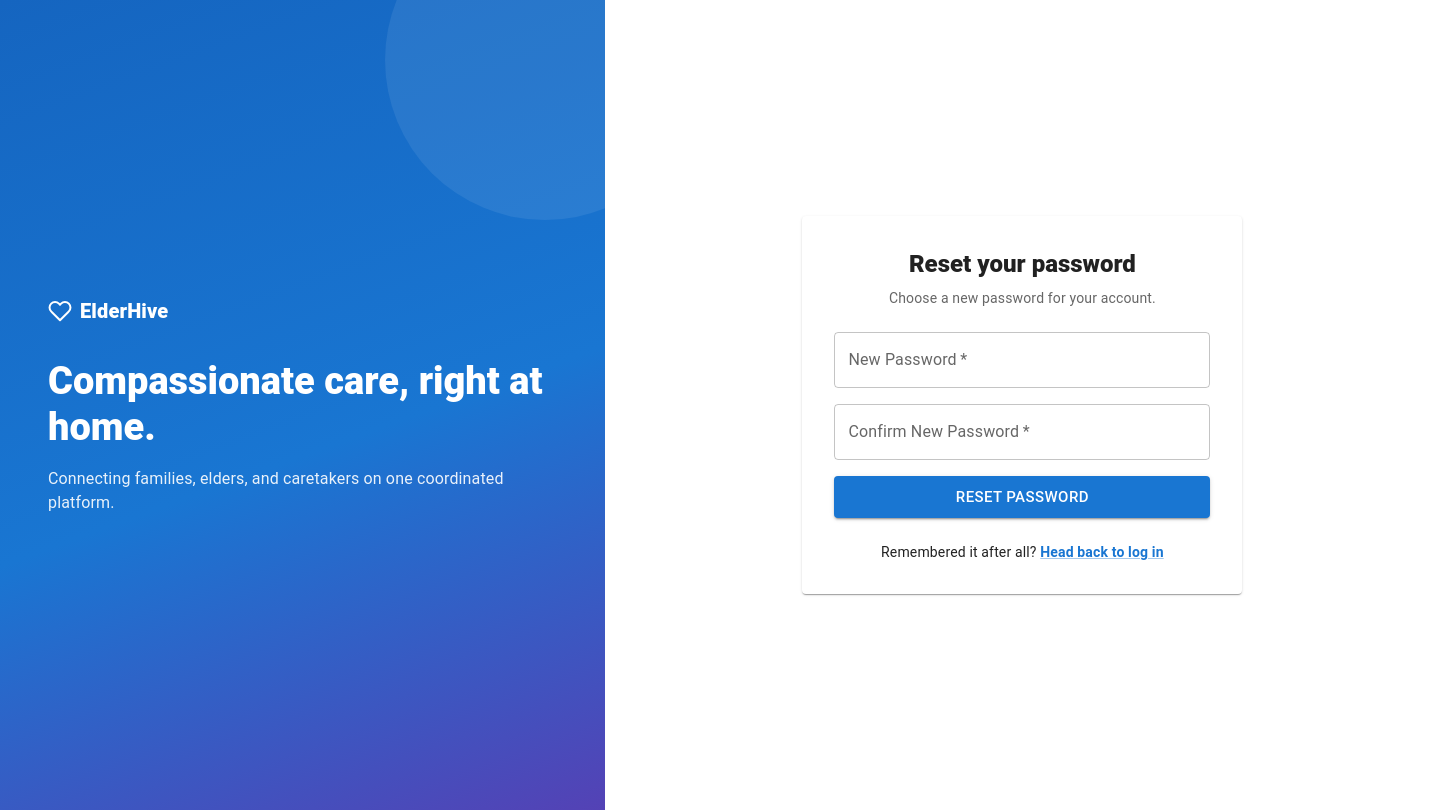
Test: ResetPassword.page › shows the backend's error message when the reset itself fails
Type "strongpass123" into the password field labelled "New Password *". click: [1022, 360]
box: [834,332,1210,388]
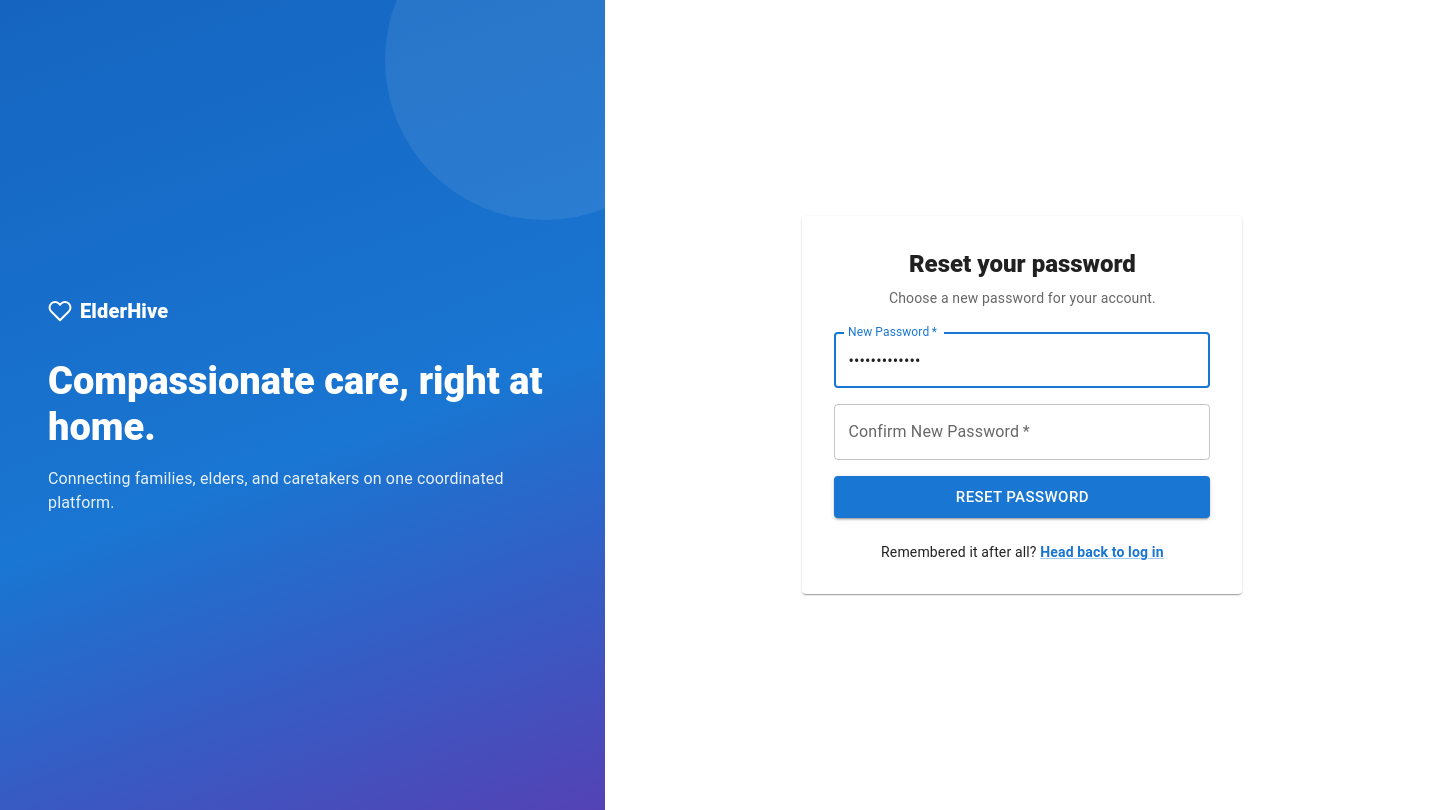
Type "strongpass123" into the password field labelled "Confirm New Password *". click: [1022, 432]
box: [834,404,1210,460]
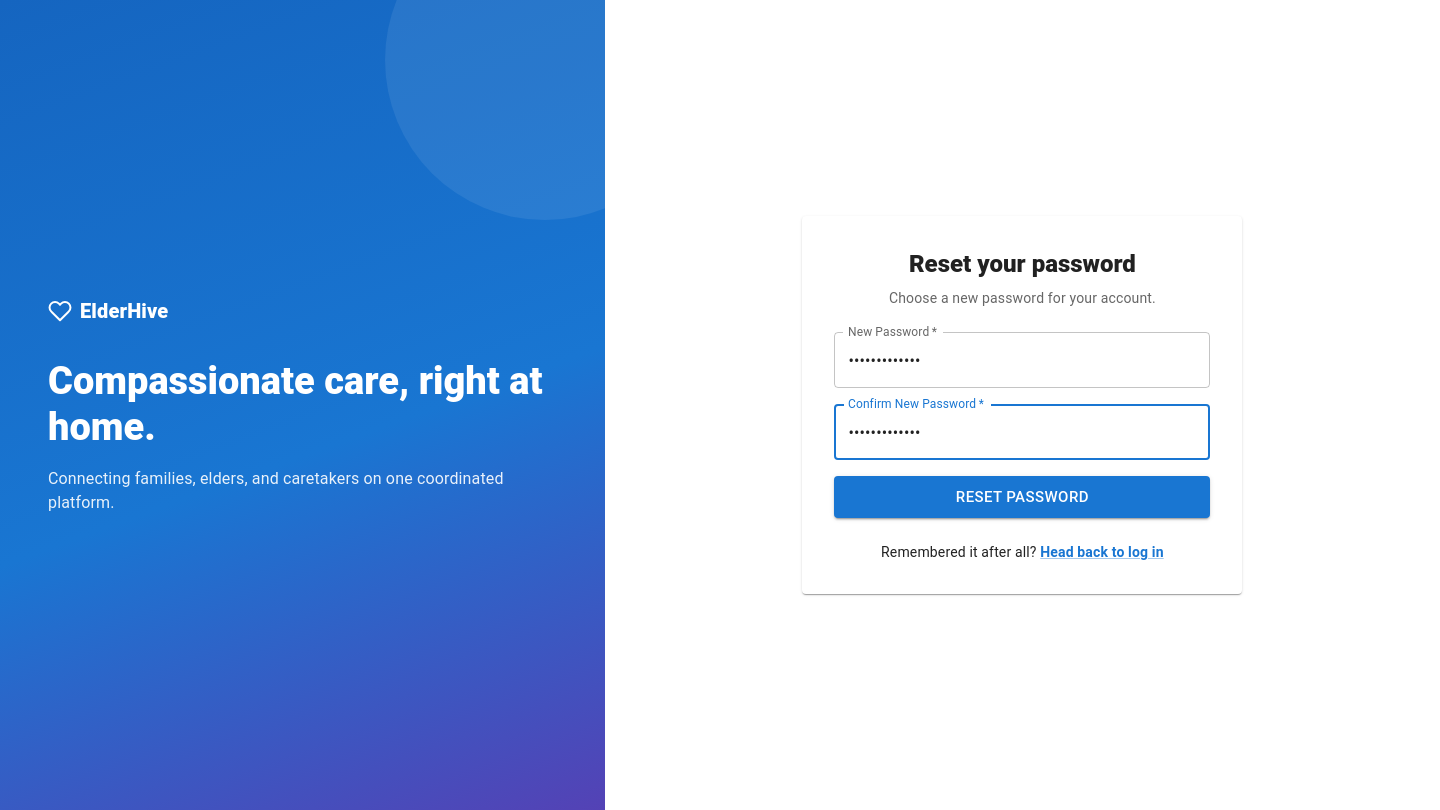
Click the button "Reset Password". click: [1022, 497]
box: [834,476,1210,518]
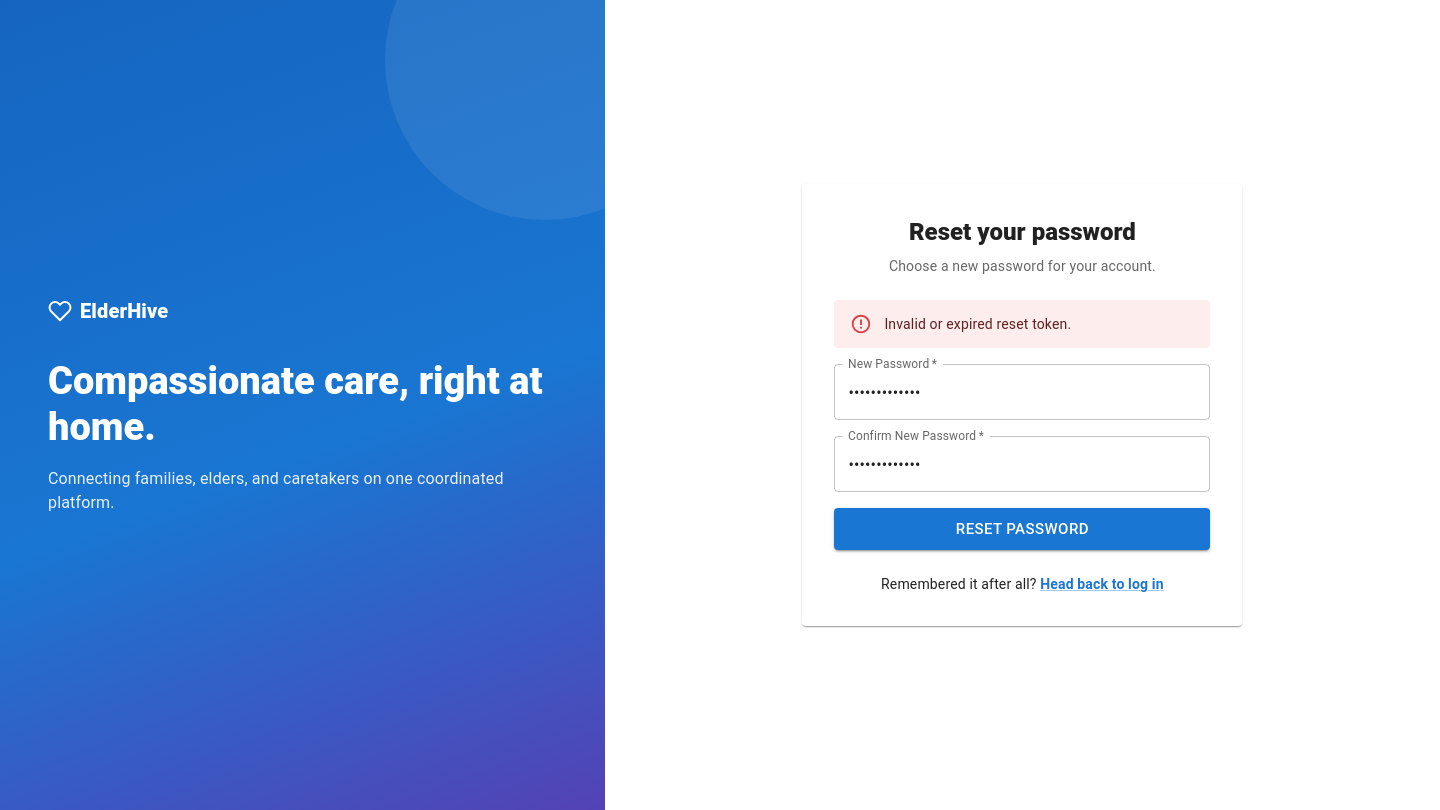
Now the text "Invalid or expired reset token." is shown, box [884,316,1071,332]
